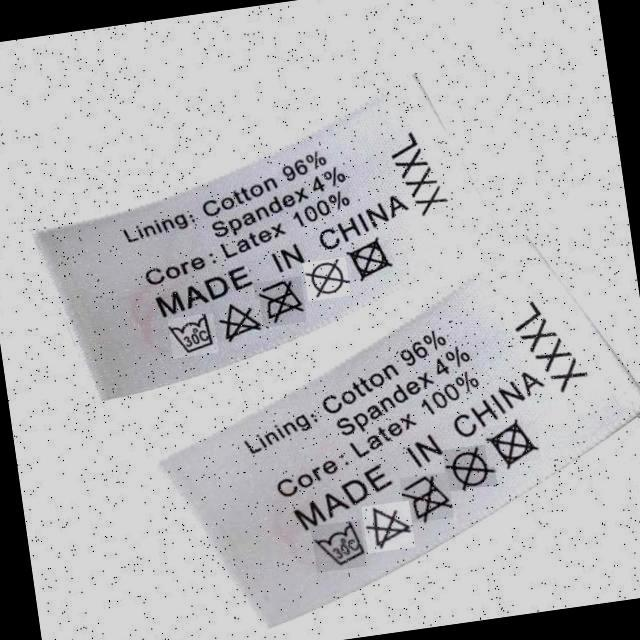30C: (318, 521, 365, 573), (171, 311, 217, 357)
DN_bleach: (369, 506, 411, 550), (224, 302, 261, 339)
DN_dry_clean: (450, 448, 494, 493), (309, 258, 352, 300)
DN_iron: (259, 280, 306, 327), (407, 477, 450, 523)
DN_tumble_dry: (492, 420, 542, 472), (350, 238, 396, 283)
